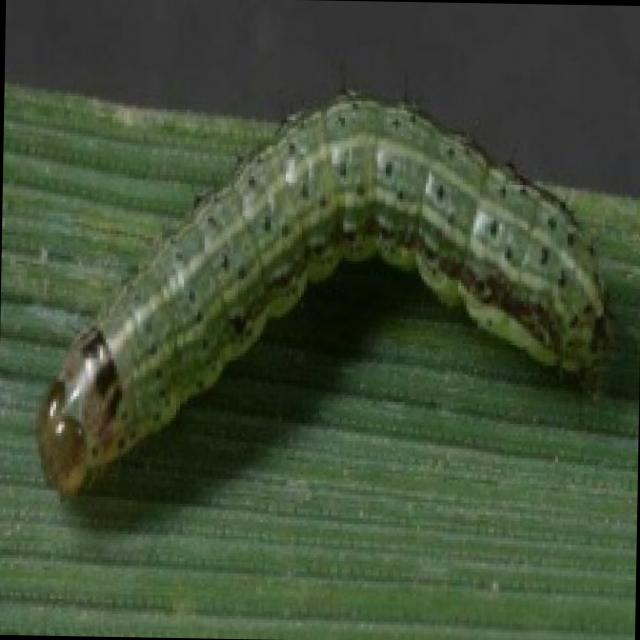armyworm: (12, 62, 614, 521)
